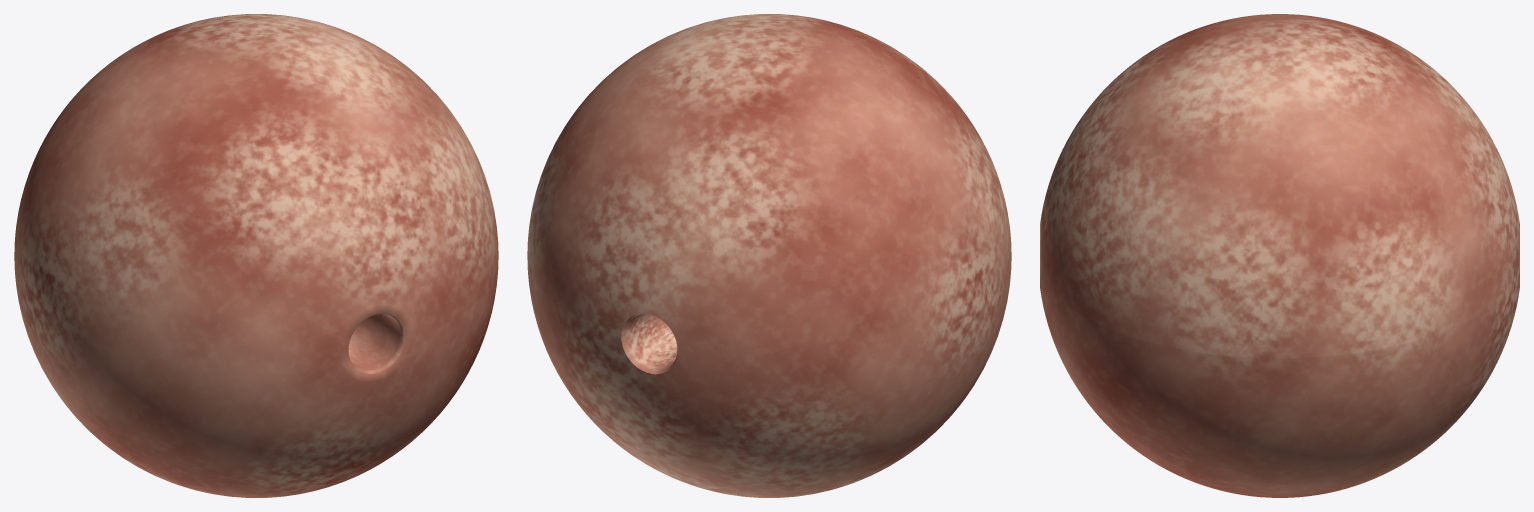
File: flower-agate.glb
3 views of the same model, side by side, from view 1: azimuth 30°, elevation 25°; view 2: azimuth 150°, elevation 25°; view 3: azimuth 270°, elevation 25° (orthographic).
Parts seen in each view (by area): view 1: flower-agate.001; view 2: flower-agate.001; view 3: flower-agate.001.
Boxes of the visible parts, left/top/right/bottom form: flower-agate.001: left=14, top=14, right=498, bottom=497; flower-agate.001: left=527, top=14, right=1011, bottom=497; flower-agate.001: left=1040, top=14, right=1519, bottom=497.
Size of the model in its own units: 0.008 by 0.008 by 0.00793.
Materials: 2 (1 with a texture image).
